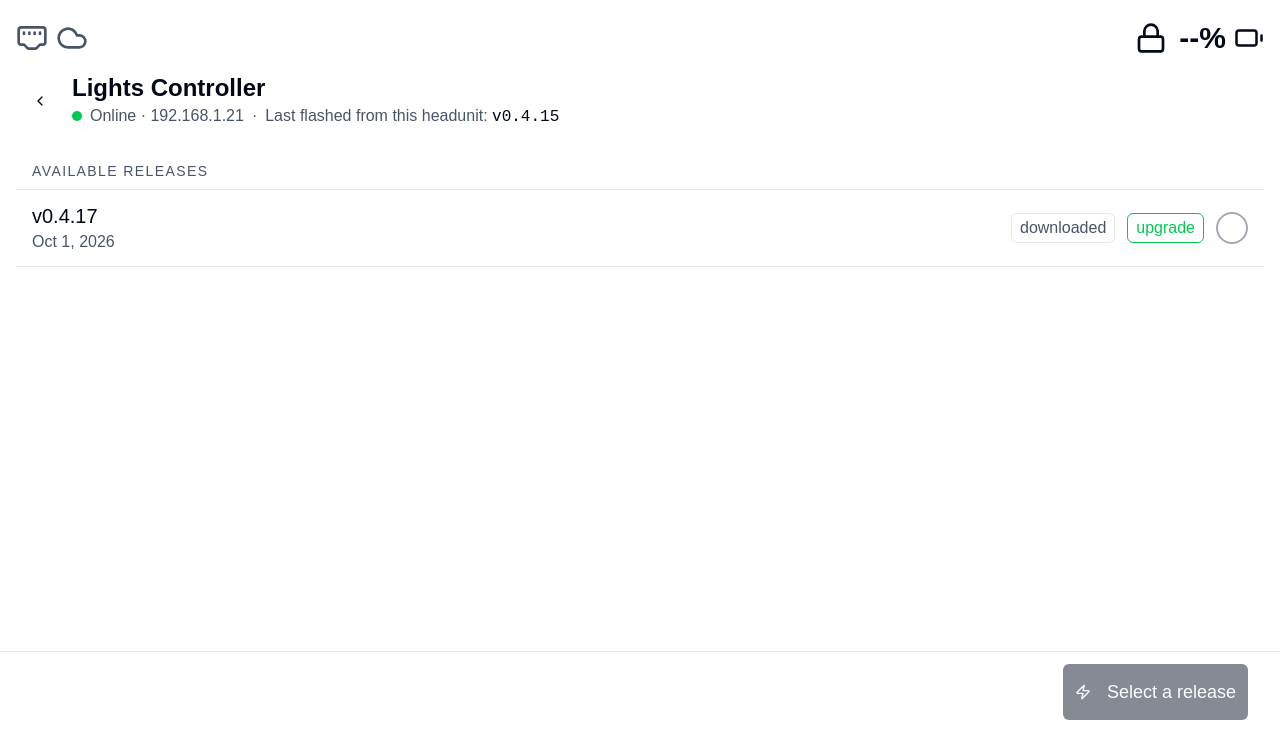
Test: an online controller of a stationary kart can be flashed after confirming
This screenshot has width=1280, height=732.
Click the radio button labelled "v0.4.17 Oct 1, 2026 downloaded upgrade".
click(65, 216)  # box [16,190,1264,266]
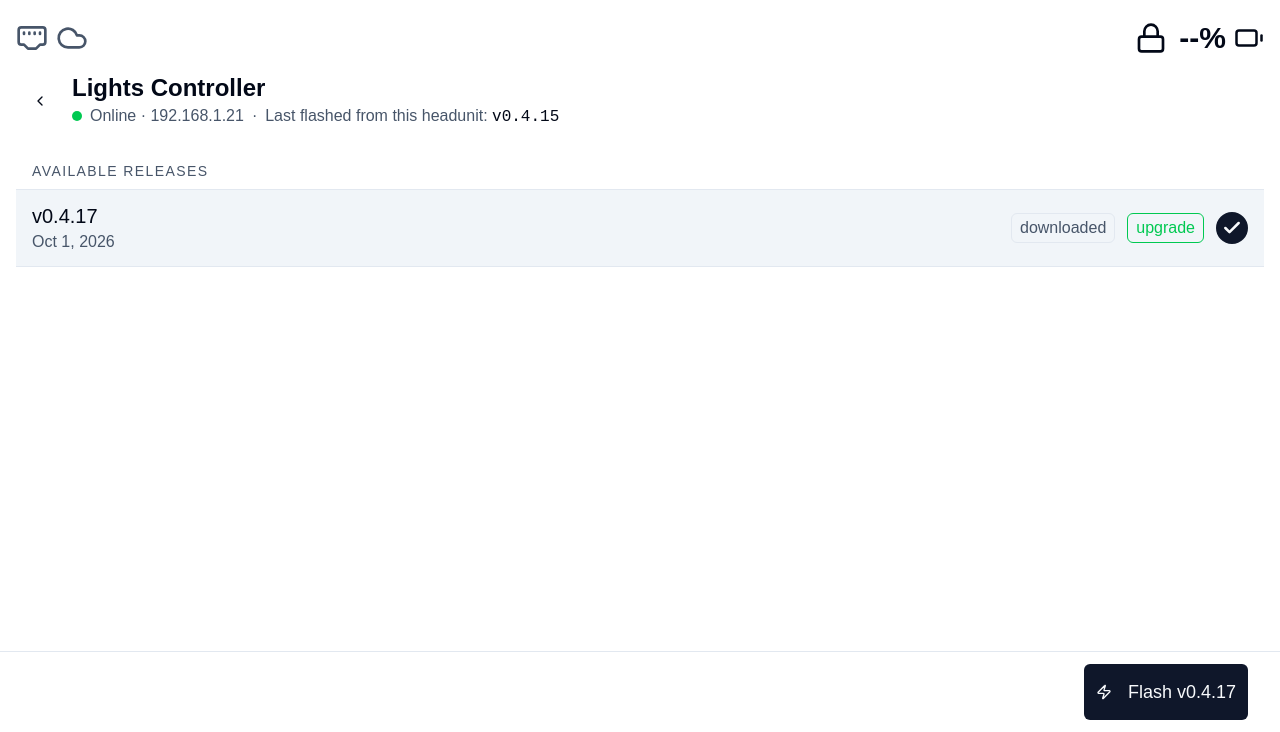
Click the button "Flash v0.4.17".
click(1166, 692)  # box [1084,664,1248,720]
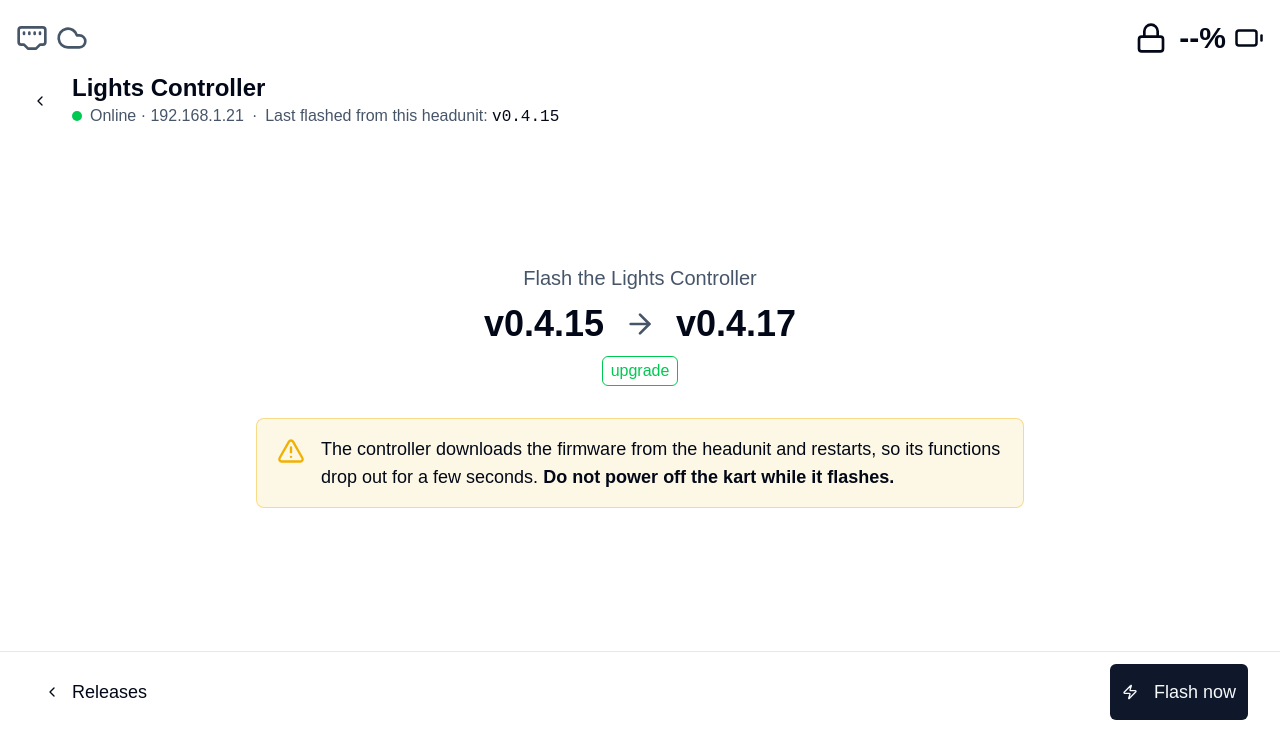
Check: the text "Flash the Lights Controller" is shown, box [523,264,757,292]
Click the button "Flash now".
click(1179, 692)  # box [1110,664,1248,720]
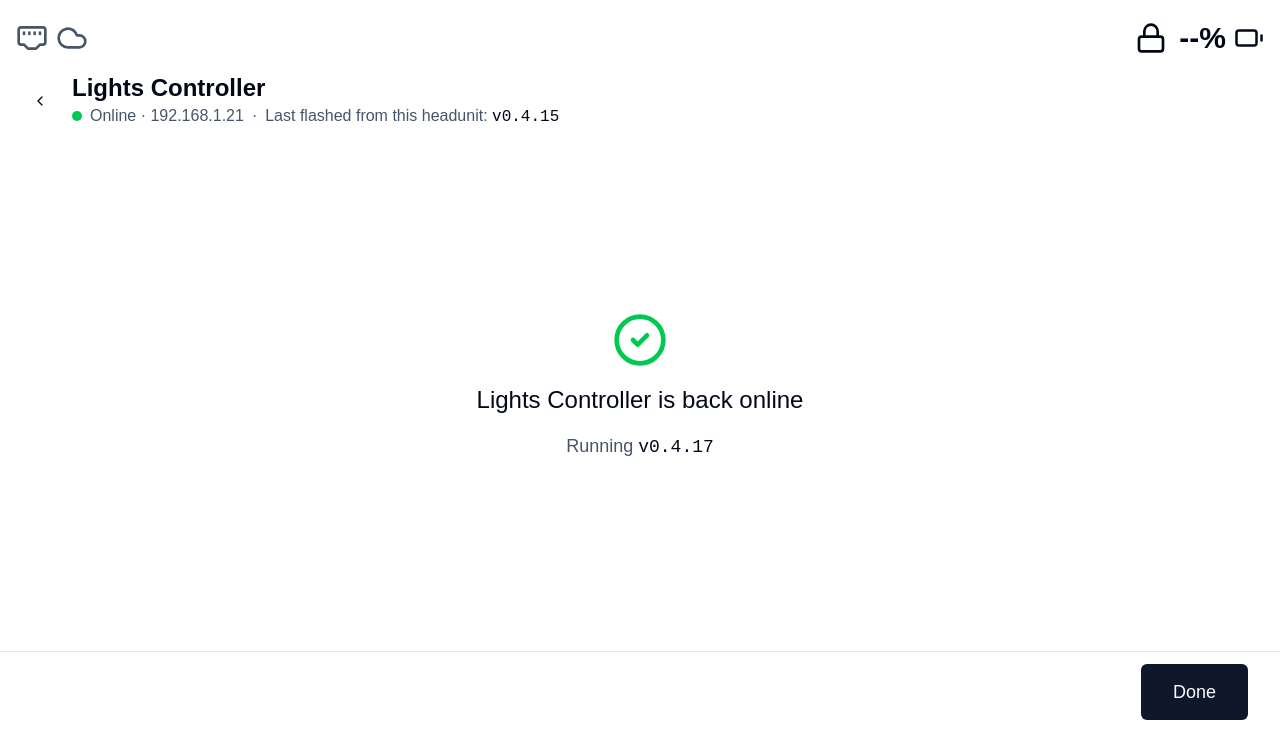
Check: the text "Lights Controller is back online" is shown, box [477,384,803,416]
